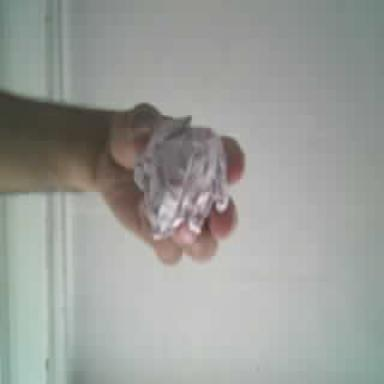paper: (134, 118, 227, 238)
